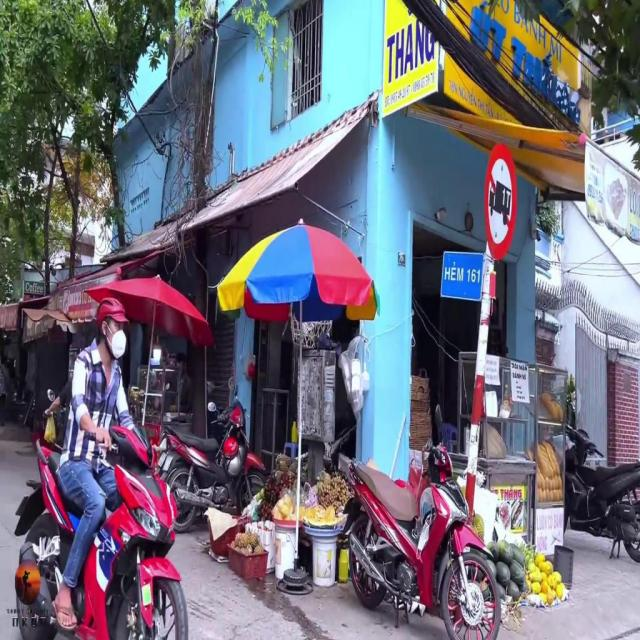cam_o_to_tai: (484, 143, 516, 260)
